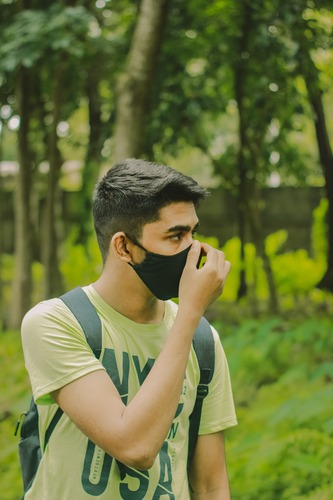with_mask: (135, 209, 203, 302)
